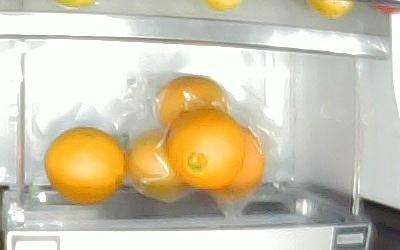orange: (44, 127, 125, 206), (167, 108, 245, 190)
orange_vinyl: (125, 131, 189, 199), (157, 77, 227, 130), (221, 125, 265, 199)
